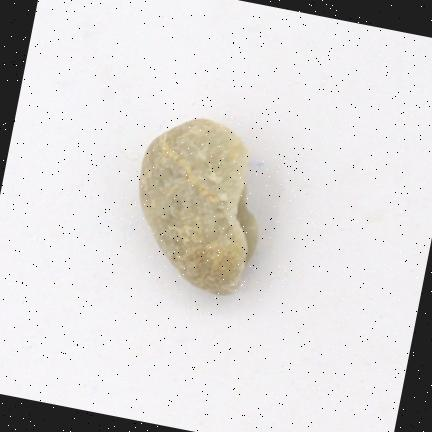cut: (139, 118, 257, 295)
